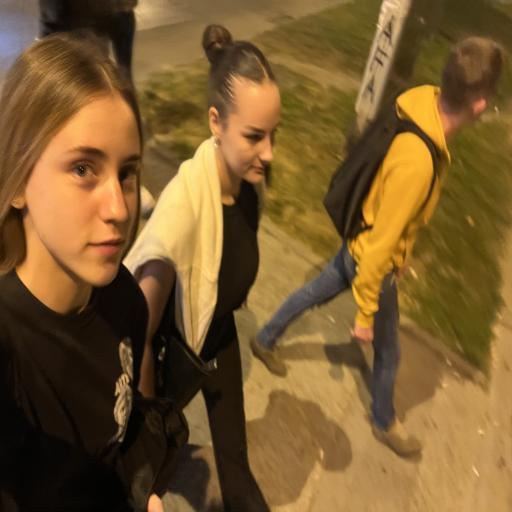marija: (242, 91, 282, 185)
masa: (50, 90, 142, 283)
